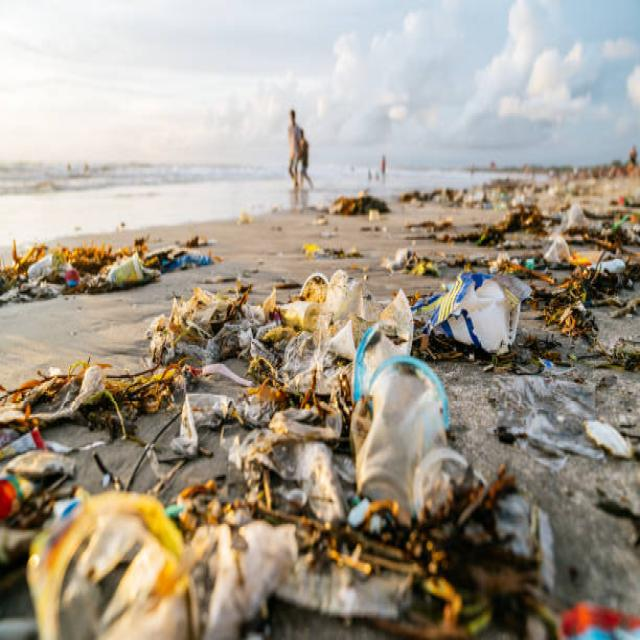plastic: (288, 213, 520, 521)
